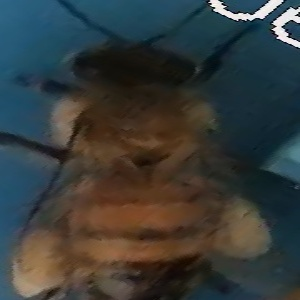bee: (8, 32, 278, 300)
